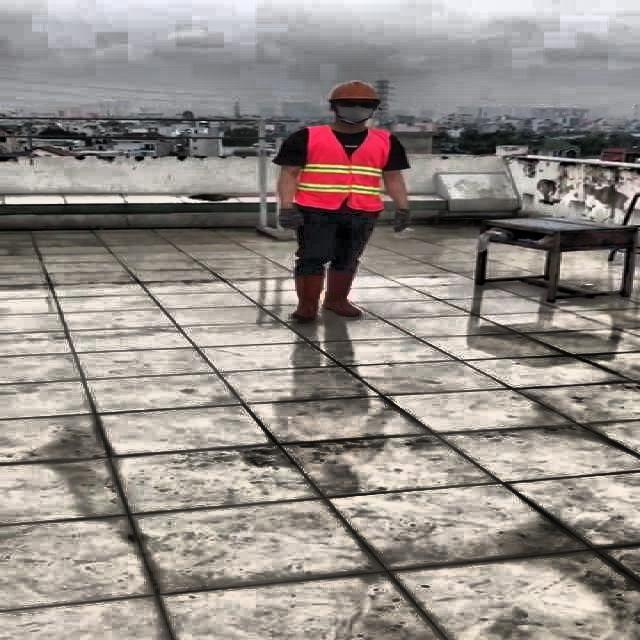safety_helmet: (326, 80, 383, 102)
safety_jacket: (298, 124, 392, 212)
